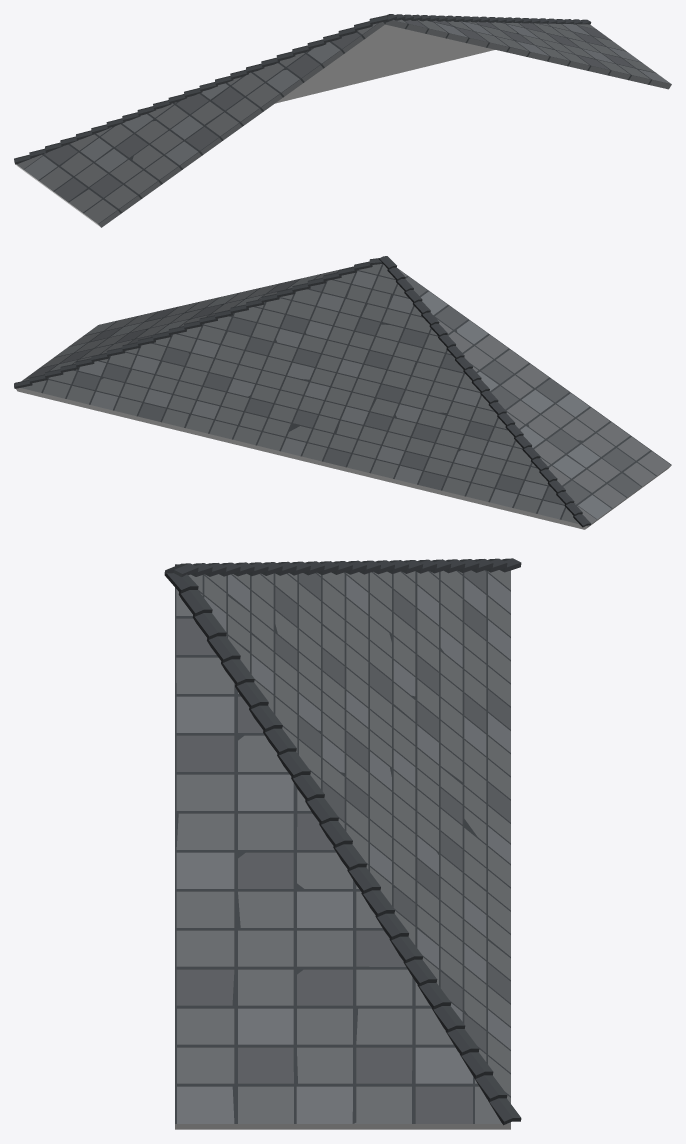
File: Roof5_C8_02.fbx
The picture shows the model from 3 angles, top to bottom: view 1: azimuth 30°, elevation 25°; view 2: azimuth 150°, elevation 25°; view 3: azimuth 270°, elevation 25°; orthographic projection. The views are drawn at different scales.
Parts seen in each view (by area): view 1: Roof5_C8_02; view 2: Roof5_C8_02; view 3: Roof5_C8_02.
Part boxes in pixels (x1,y1,x2,y2): Roof5_C8_02: (14,14,671,227); Roof5_C8_02: (14,256,671,529); Roof5_C8_02: (164,558,521,1129).
Size of the model in its own units: 1111 by 262 by 298.
